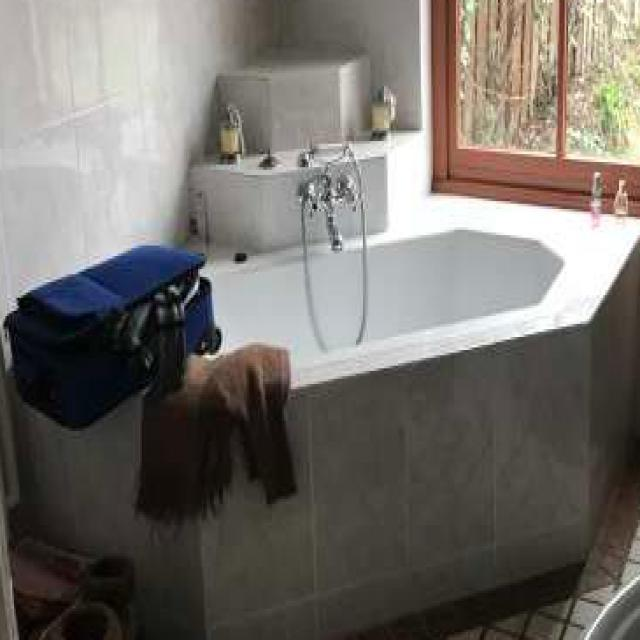bath: (24, 141, 640, 551)
wastafel: (580, 572, 640, 640)
